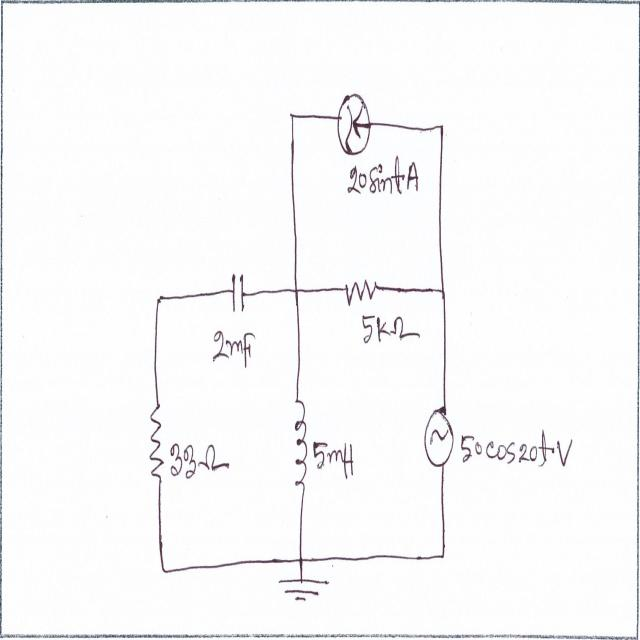ac_current: (422, 406, 454, 474)
capacitor: (227, 267, 248, 314)
current_source: (336, 83, 372, 157)
ground: (276, 572, 332, 610)
inductor: (292, 397, 310, 495)
resistor: (142, 403, 167, 486), (344, 273, 380, 311)
